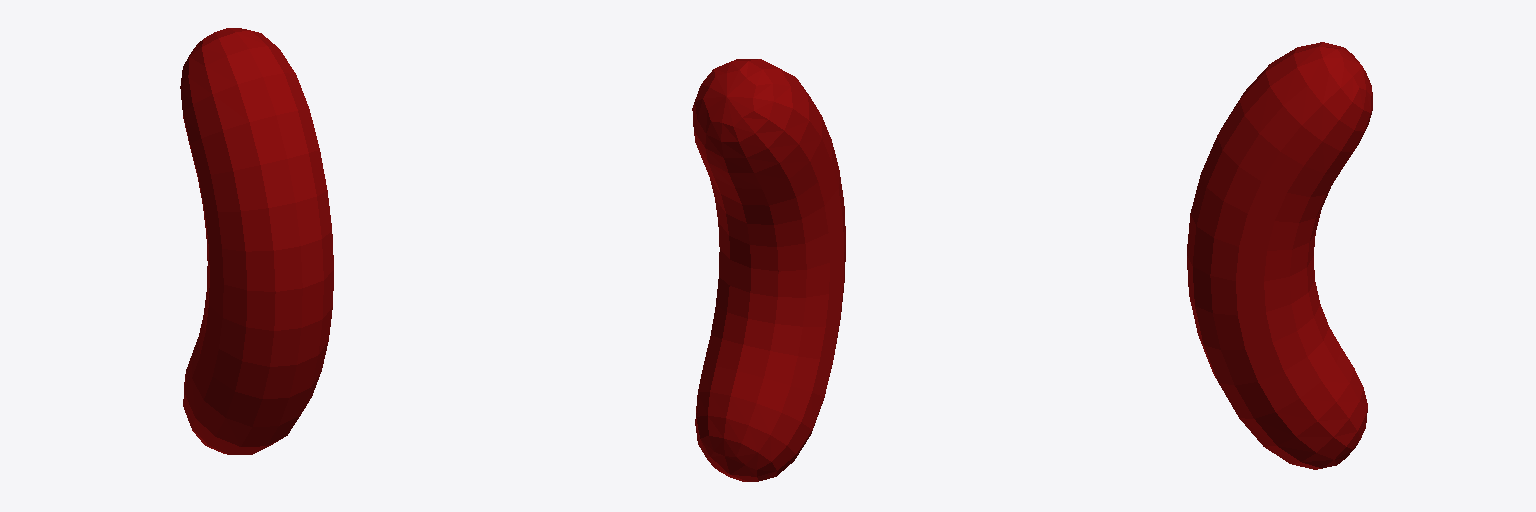
Rendered from wurst_hi.obj.
3 views of the same model, side by side, from view 1: azimuth 30°, elevation 25°; view 2: azimuth 150°, elevation 25°; view 3: azimuth 270°, elevation 25° (orthographic).
Visible parts, largest first — view 1: geo_wurst; view 2: geo_wurst; view 3: geo_wurst.
Boxes of the visible parts, x1,y1,x2,y2 form: geo_wurst: [180, 28, 333, 454]; geo_wurst: [692, 59, 845, 481]; geo_wurst: [1187, 42, 1372, 469].
Size of the model in its own units: 1.11 by 4.09 by 1.65.